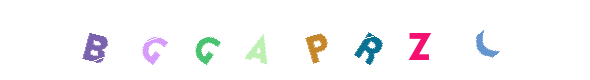A: (220, 0, 300, 80)
B: (141, 0, 221, 80)
C: (379, 0, 459, 80)
G: (165, 0, 245, 80), (196, 0, 276, 80)
P: (256, 0, 336, 80)
R: (276, 0, 356, 80)
Z: (329, 0, 409, 80)
